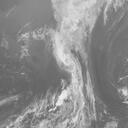cyclone: (48, 43, 86, 81)
